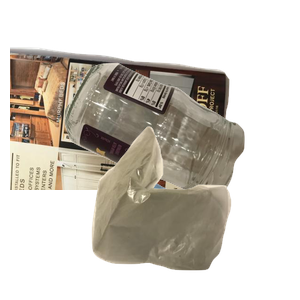glass: (62, 60, 300, 240)
paper: (10, 44, 232, 224)
plastic: (98, 176, 266, 300)
trash: (89, 124, 300, 300)
